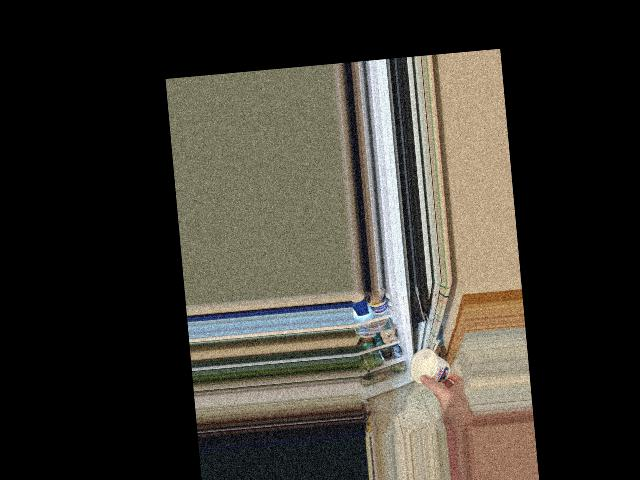cotage: (408, 346, 453, 388)
